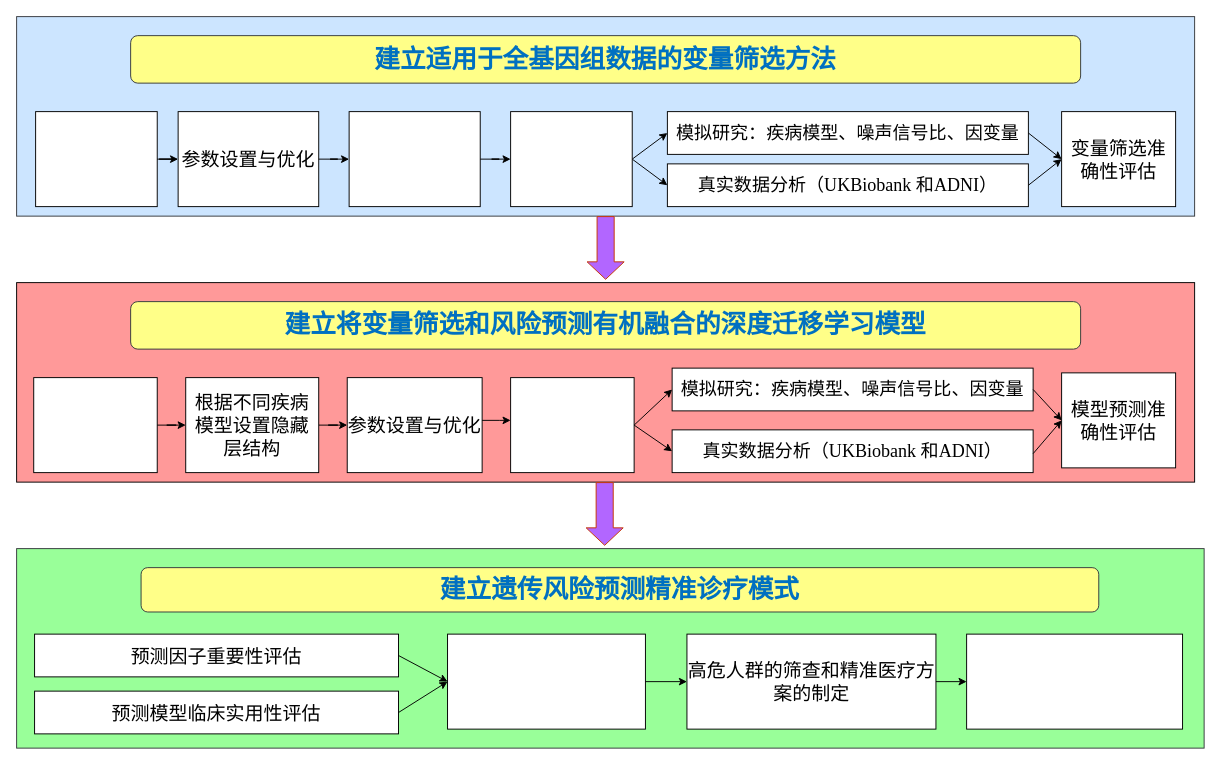
The diagram is 1221 pixels wide and 765 high, and some of its shapes have lost their labels. The centre of each missing label's shape, as x and y in pixels:
"变量筛选准确性的评估指标" belongs at (571,159).
"变量重要性评分的估算和理论分布推导" belongs at (414,159).
"多层感知机 的构建" belongs at (96,159).
"新模式的临床应用可行性" belongs at (1074,681).
"模型准确性的评估指标" belongs at (572,425).
"深度迁移学习模型的构建" belongs at (95,425).
"预测模型的优化决策" belongs at (546,681).
